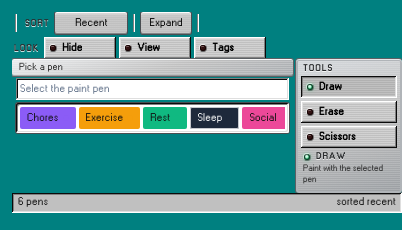
PenPalette bead well › clips beads to one row until Expand (right of Tree) unwraps them
Click the button with aria-label "Sort pens Recent" at point(92, 23), box left=56, top=12, right=128, bottom=34
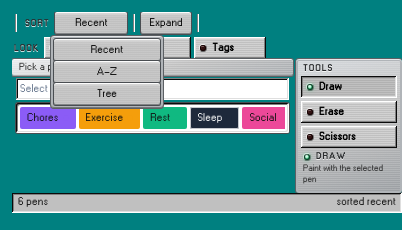
Click the option with aria-label "Sort pens Tree" at point(107, 94), box left=54, top=83, right=160, bottom=105
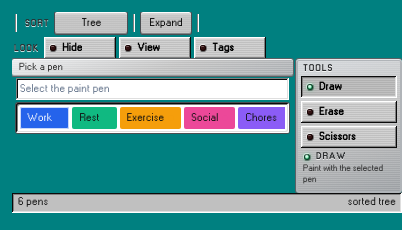
Expected: the button with aria-label "Sort pens Tree" is shown, left=56, top=12, right=128, bottom=34
Click the button "Expand" at point(166, 23), box left=142, top=12, right=191, bottom=34
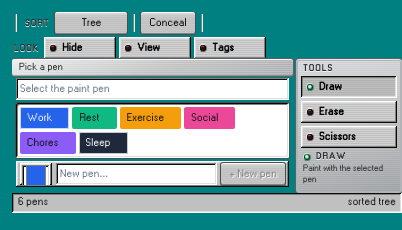
Expected: the button "Expand" is gone
Click the button "Conceal" at point(168, 23), box left=142, top=12, right=195, bottom=34
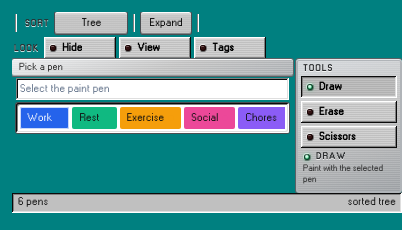
Expected: the button "Conceal" is gone
